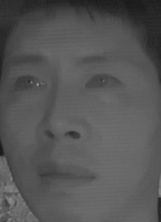eye: (13, 69, 49, 97), (84, 70, 123, 94)
mouth: (34, 156, 97, 195)
